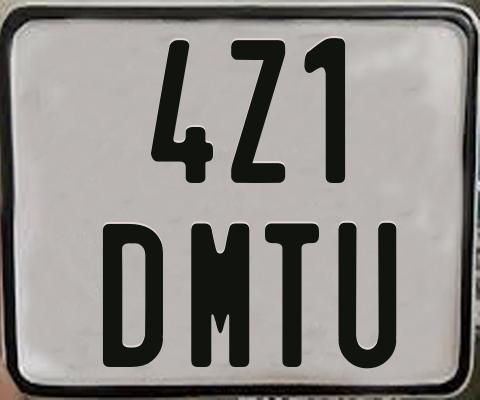1: (302, 38, 343, 183)
4: (150, 39, 213, 186)
D: (100, 222, 160, 367)
M: (191, 221, 252, 371)
T: (264, 223, 324, 369)
U: (338, 221, 397, 372)
Z: (230, 37, 284, 182)
